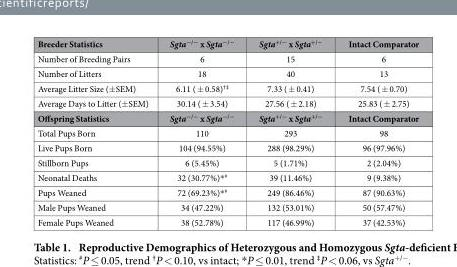table: (36, 37, 418, 227)
table column: (36, 37, 158, 227), (245, 37, 334, 227), (158, 37, 245, 227), (334, 37, 418, 227)
table column header: (36, 37, 418, 50)
table row: (36, 50, 418, 65), (36, 65, 418, 80), (36, 80, 418, 95), (36, 95, 418, 110), (36, 110, 418, 125), (36, 125, 418, 140), (36, 154, 418, 169), (36, 169, 418, 184), (36, 184, 418, 199), (36, 199, 418, 214), (36, 140, 418, 154), (36, 37, 418, 50), (36, 214, 418, 227)
